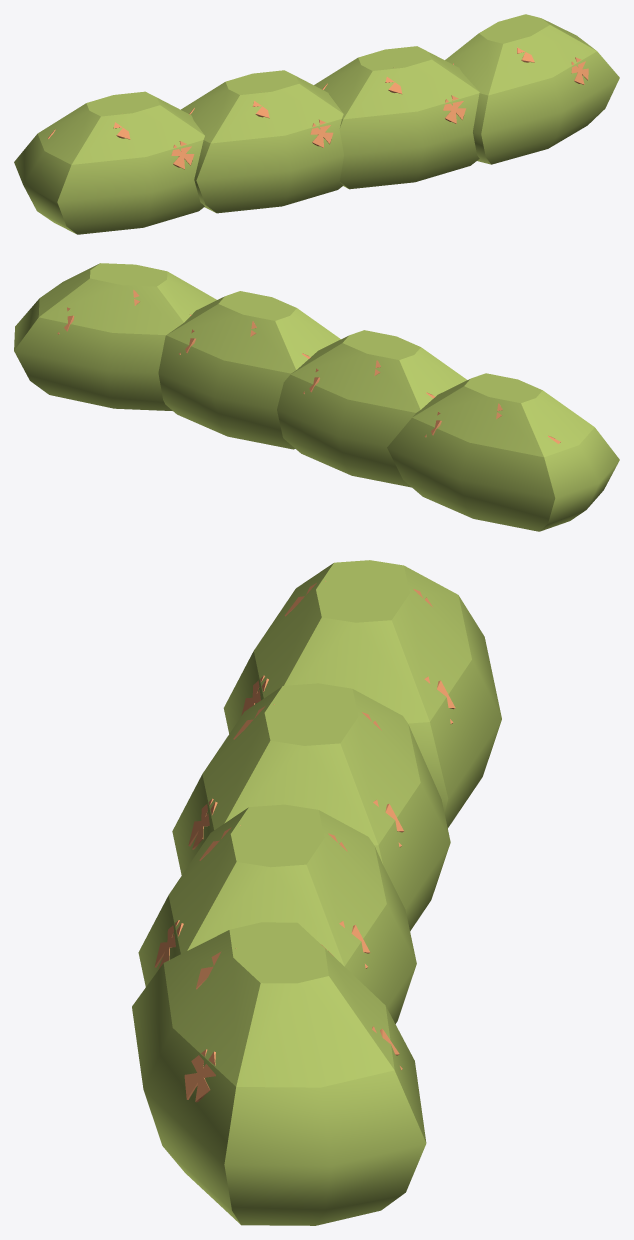
File: bushes_grp_04.fbx
3 views of the same model, one above another, from view 1: azimuth 30°, elevation 25°; view 2: azimuth 150°, elevation 25°; view 3: azimuth 270°, elevation 25° (orthographic). The views are drawn at different scales.
Visible parts, largest first — view 1: bush_geo (×4), flower_geo6 (×3); view 2: bush_geo (×4); view 3: bush_geo (×4), flower_geo6.
Boxes of the visible parts, x1,y1,x2,y2 form: bush_geo (×4): [14, 14, 619, 234]; flower_geo6 (×3): [171, 95, 465, 169]; bush_geo (×4): [14, 263, 619, 531]; bush_geo (×4): [132, 560, 501, 1225]; flower_geo6: [184, 1049, 215, 1102].
Size of the model in its own units: 0.0382 by 0.00689 by 0.011.
